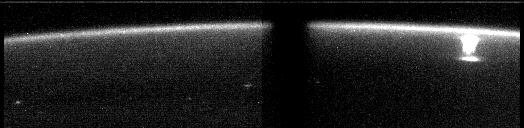positive: (457, 32, 481, 55)
